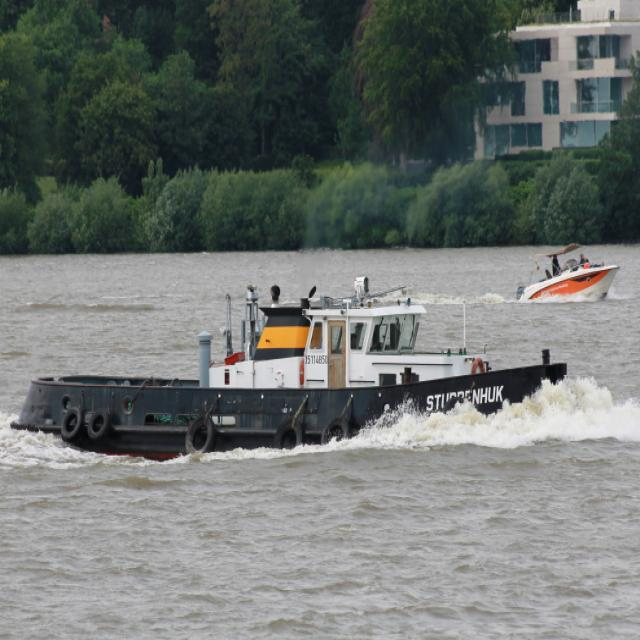tugboat: (10, 272, 574, 476)
